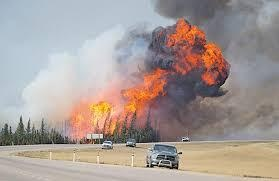fire: (69, 62, 165, 137)
